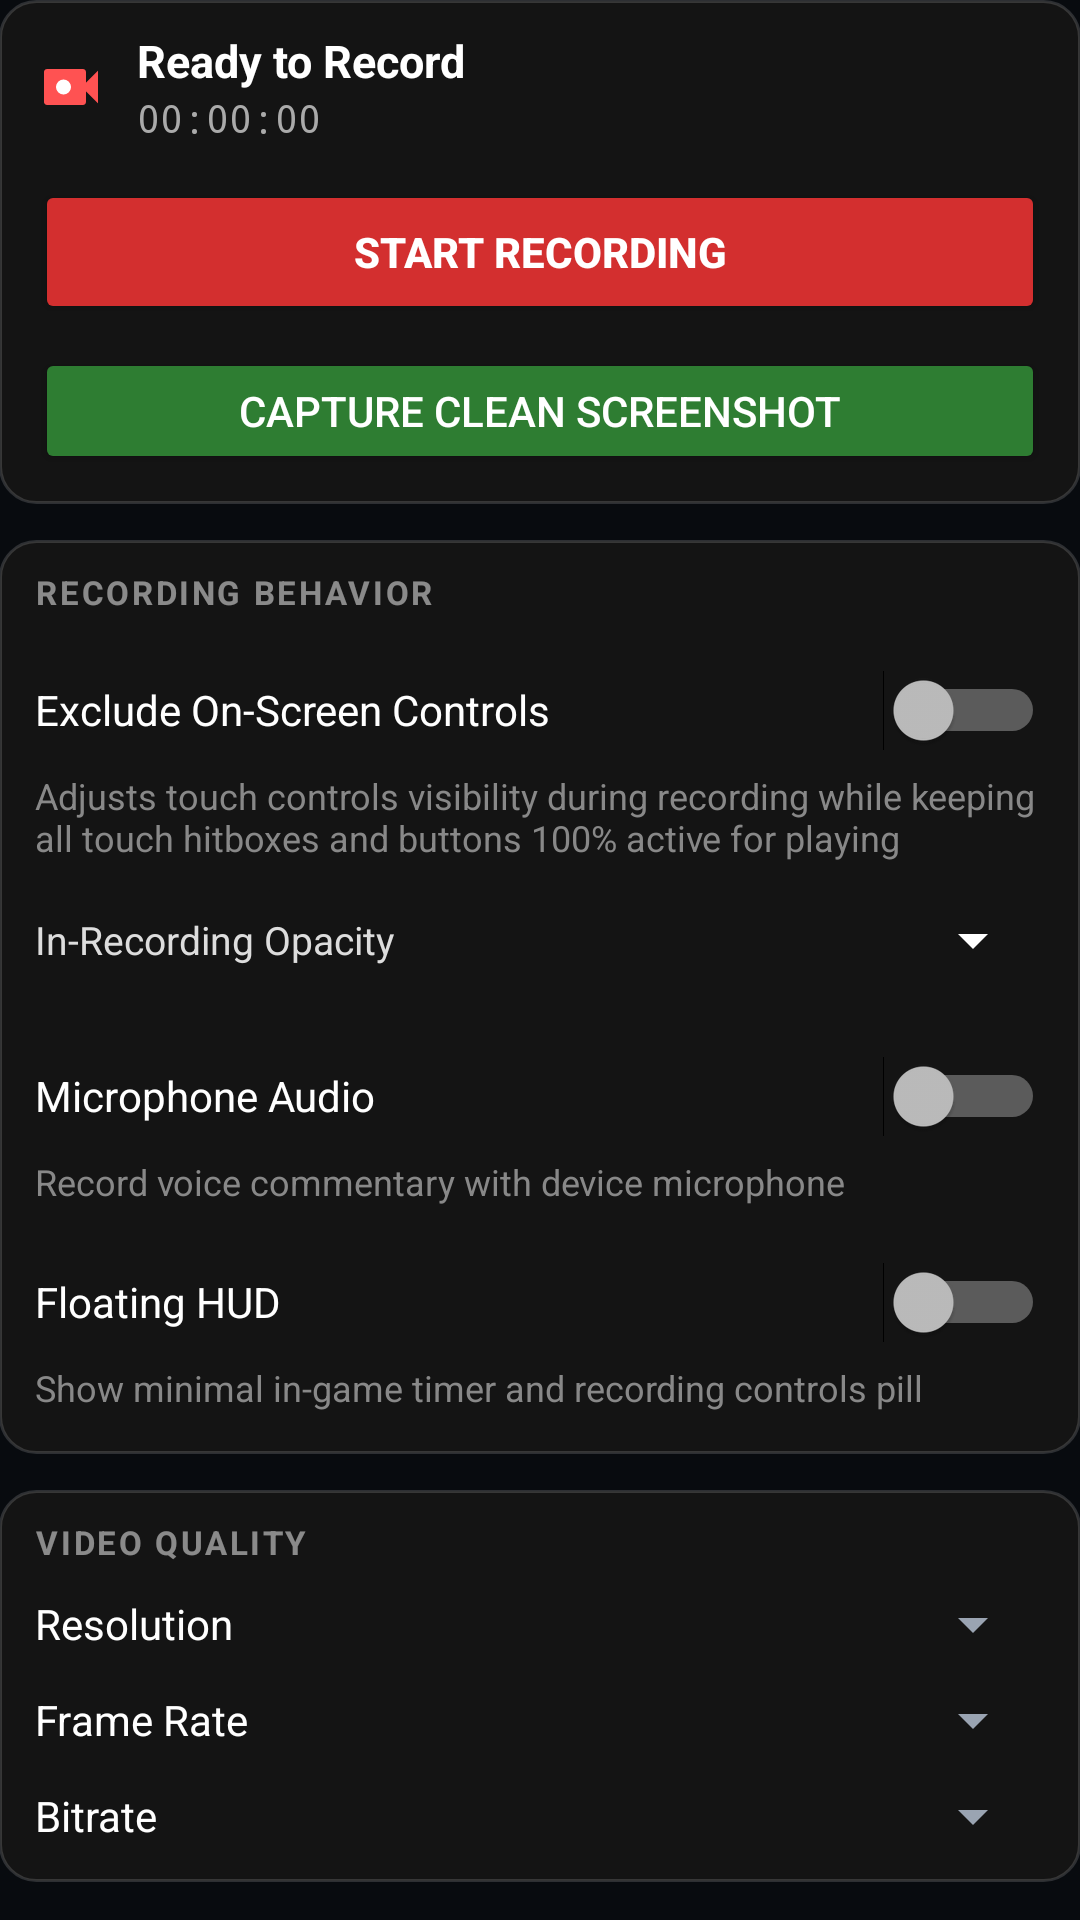

Screen size 1080 x 1920. Icon name, then its center in pixels as (x,y):
crazerecorder: (71,87)
